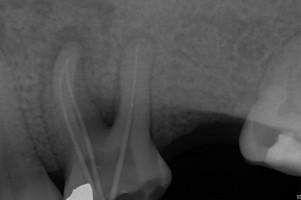Dental Caries: (52, 0, 159, 126)
